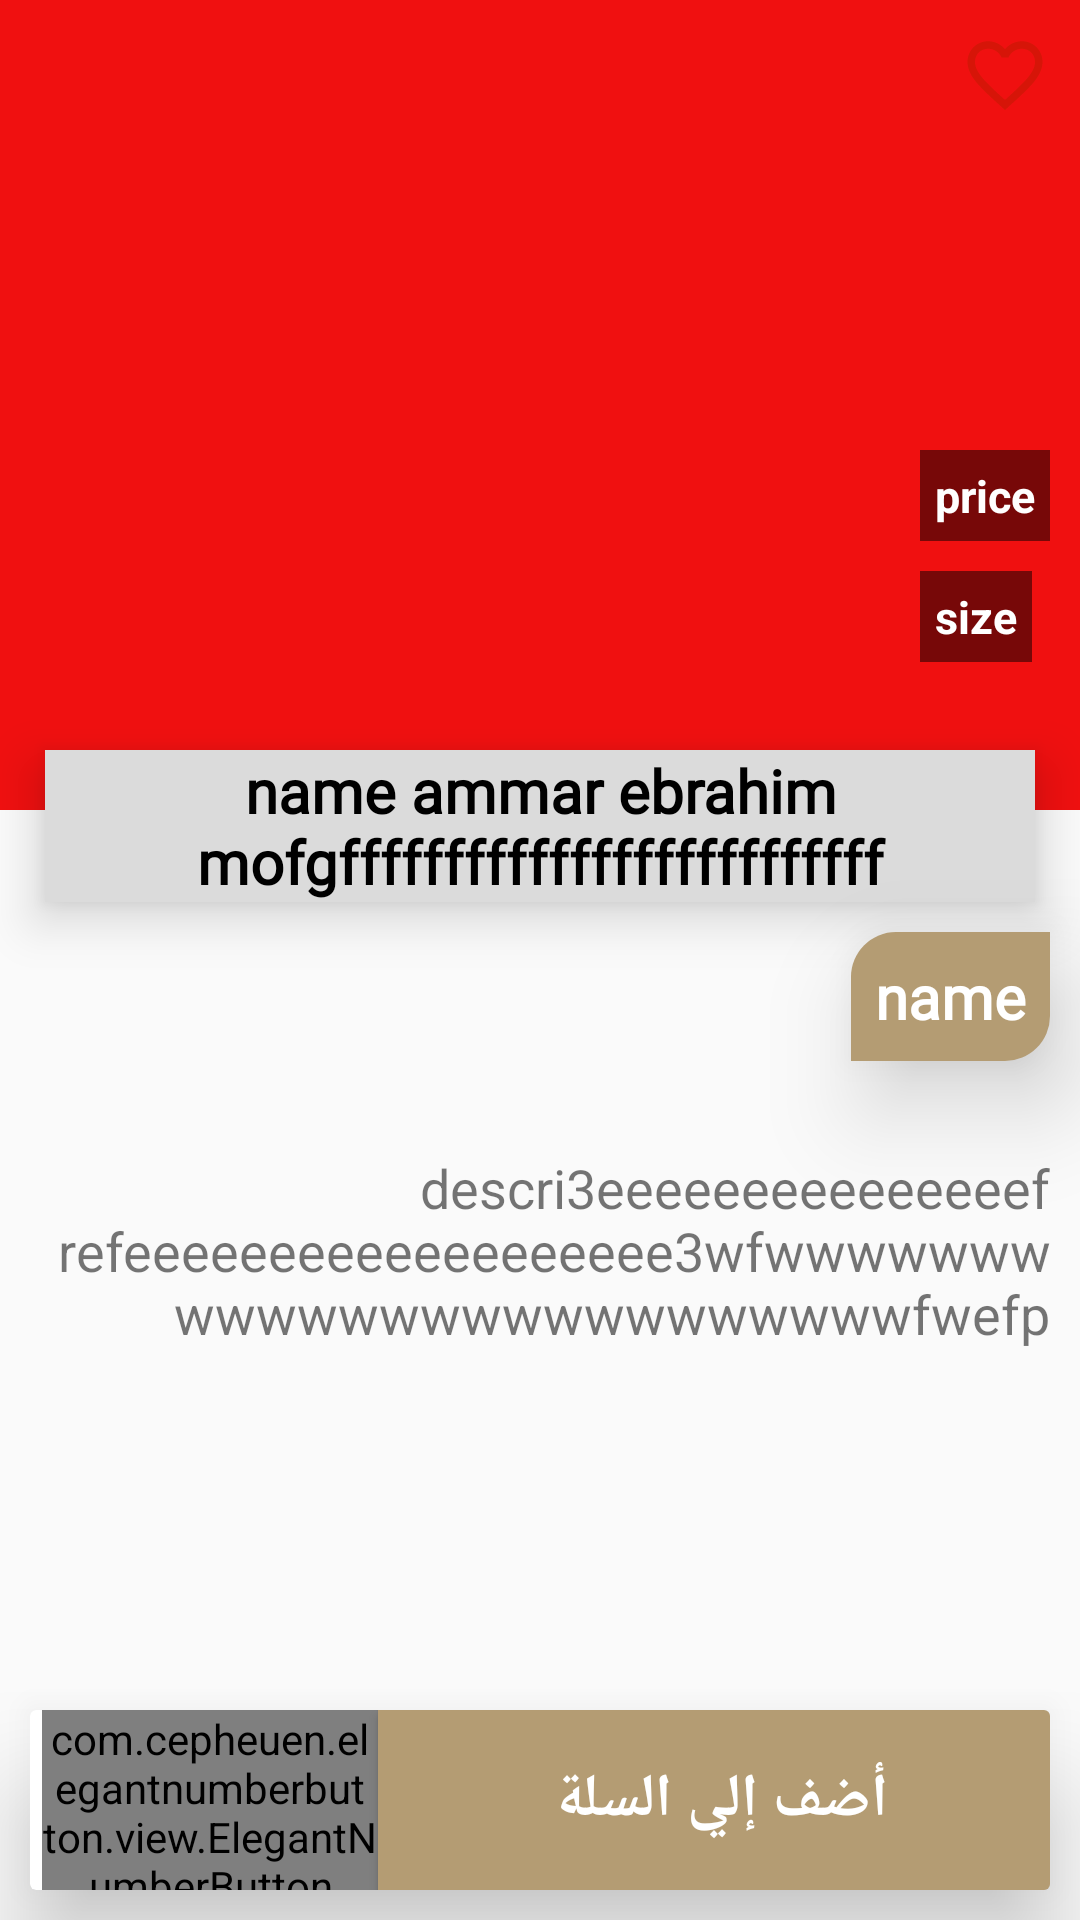

Named icons in this screenshot (1080×1920) and their bounding boxes, (x1, y1, x2, y2):
favorite border: (968, 42, 1042, 109)
